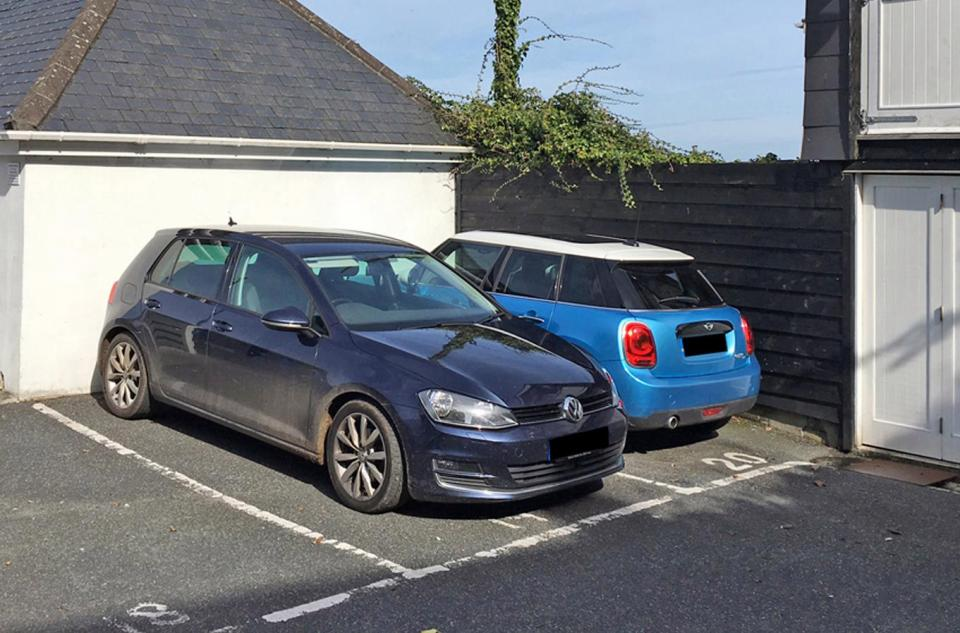empyt_space: (2, 403, 363, 619)
